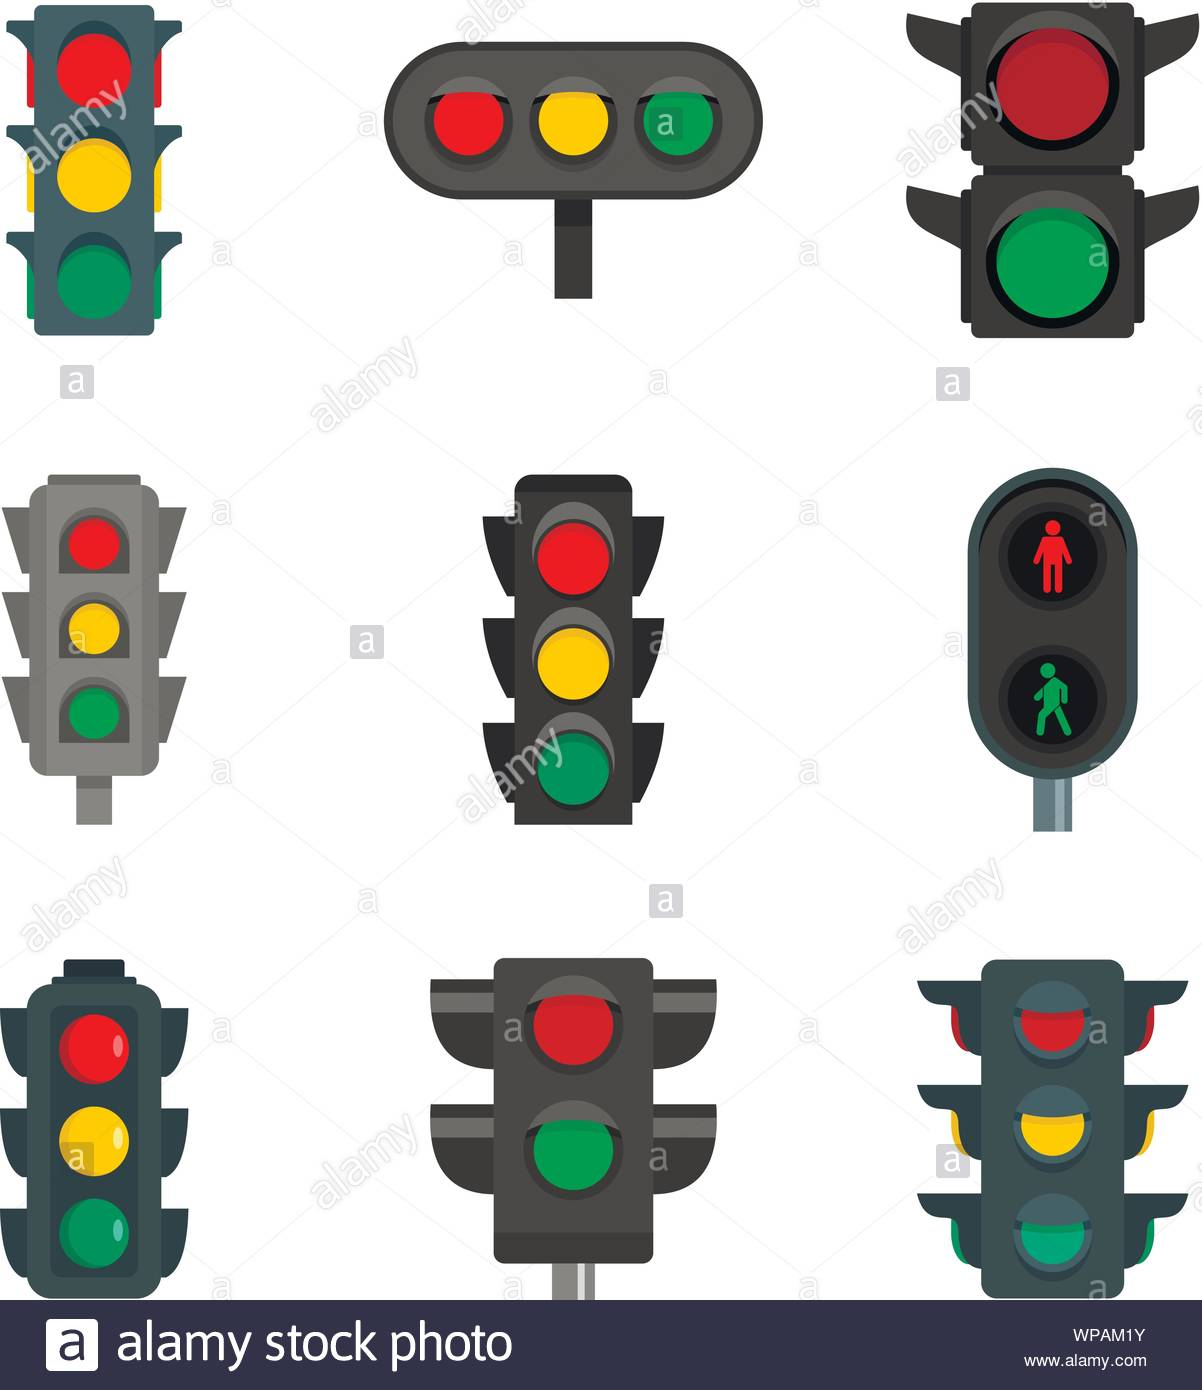trafficLight: (903, 1, 1200, 332), (422, 950, 727, 1269), (912, 951, 1188, 1298), (363, 28, 777, 215), (472, 462, 675, 839), (1, 459, 199, 833), (4, 1, 196, 363), (1, 957, 194, 1303), (962, 460, 1144, 787)
